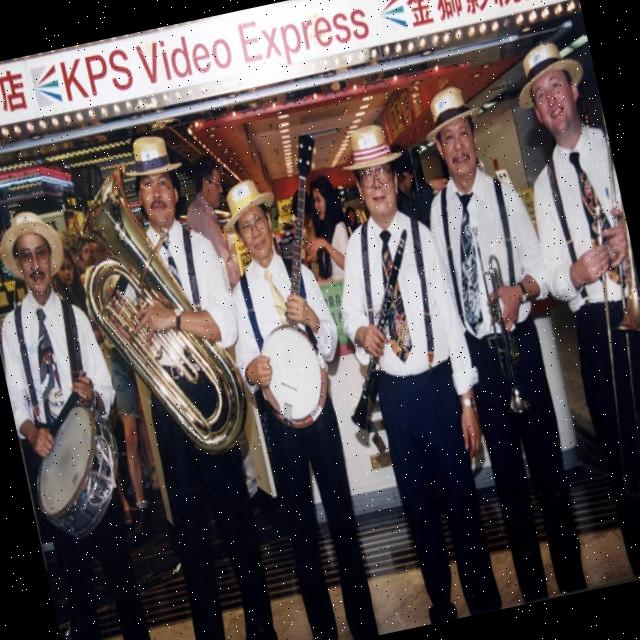clarinet: (312, 230, 447, 434)
